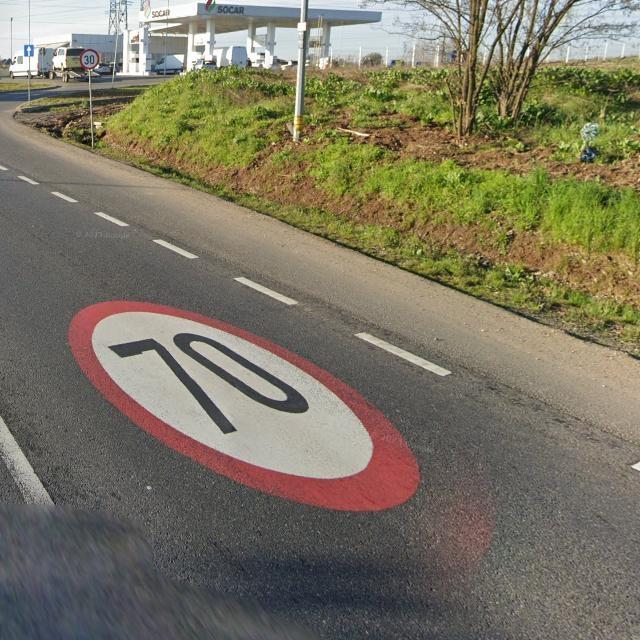forb_speed_over_30: (80, 49, 100, 70)
forb_speed_over_70: (65, 299, 420, 515)
